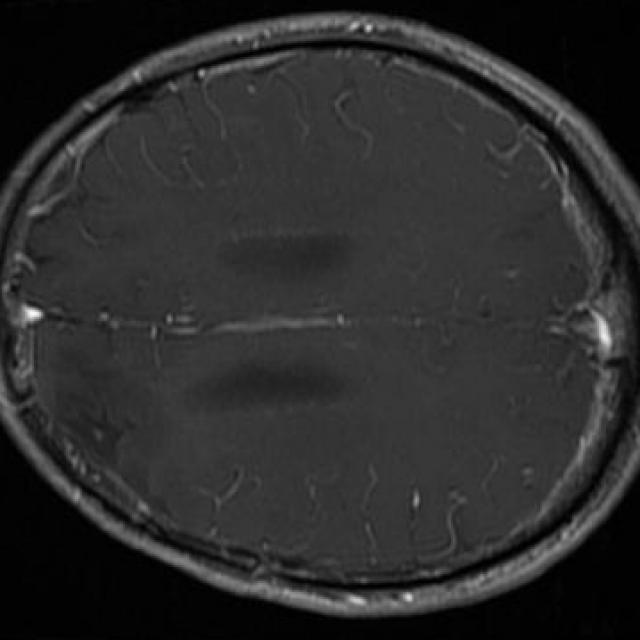glioma: (52, 348, 150, 497)
